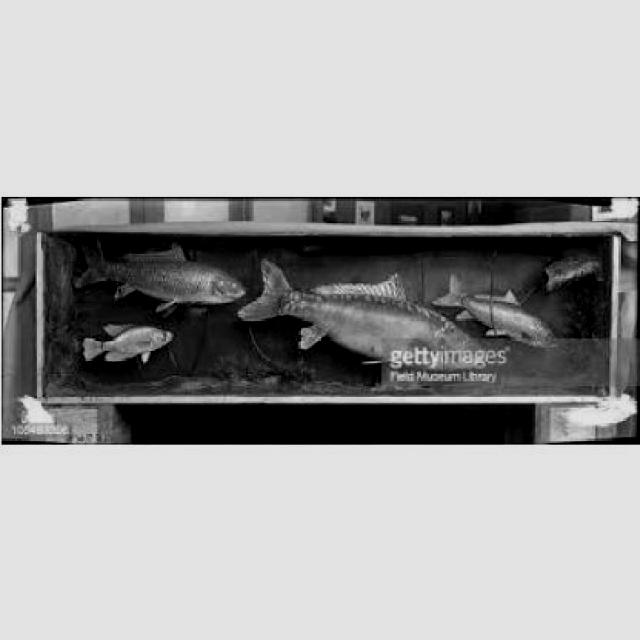ikan-mas: (244, 262, 486, 375), (432, 268, 560, 348), (74, 244, 243, 304), (80, 318, 178, 362)
